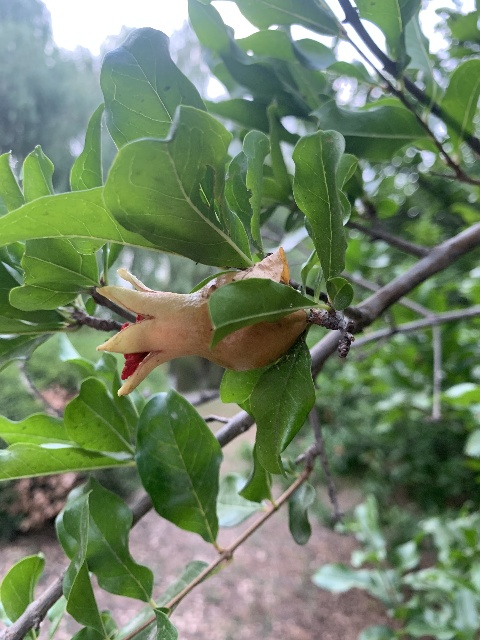early-fruit: (95, 267, 305, 397)
